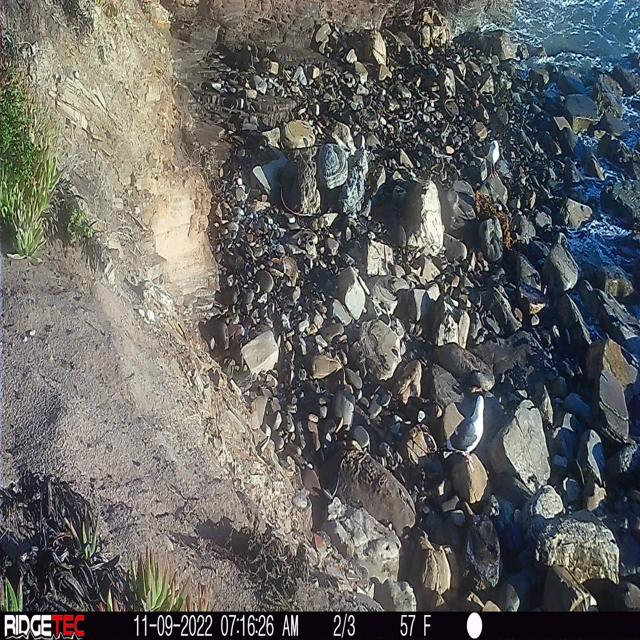bird: (440, 385, 498, 462)
